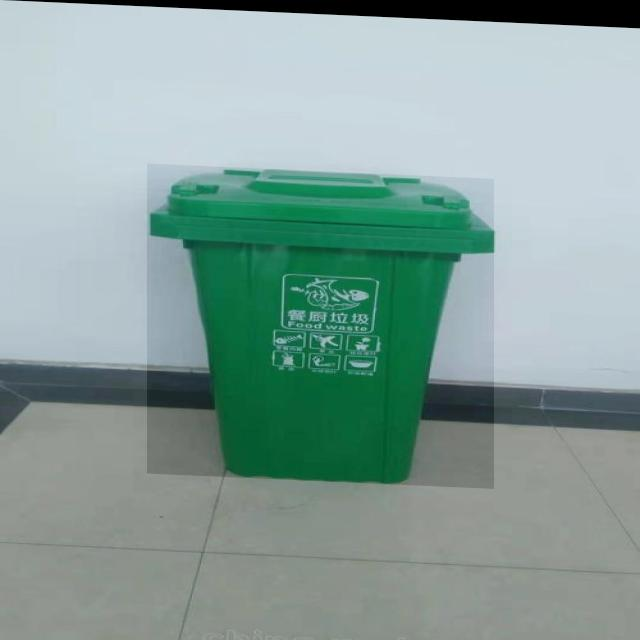garbage_bin: (147, 162, 494, 484)
